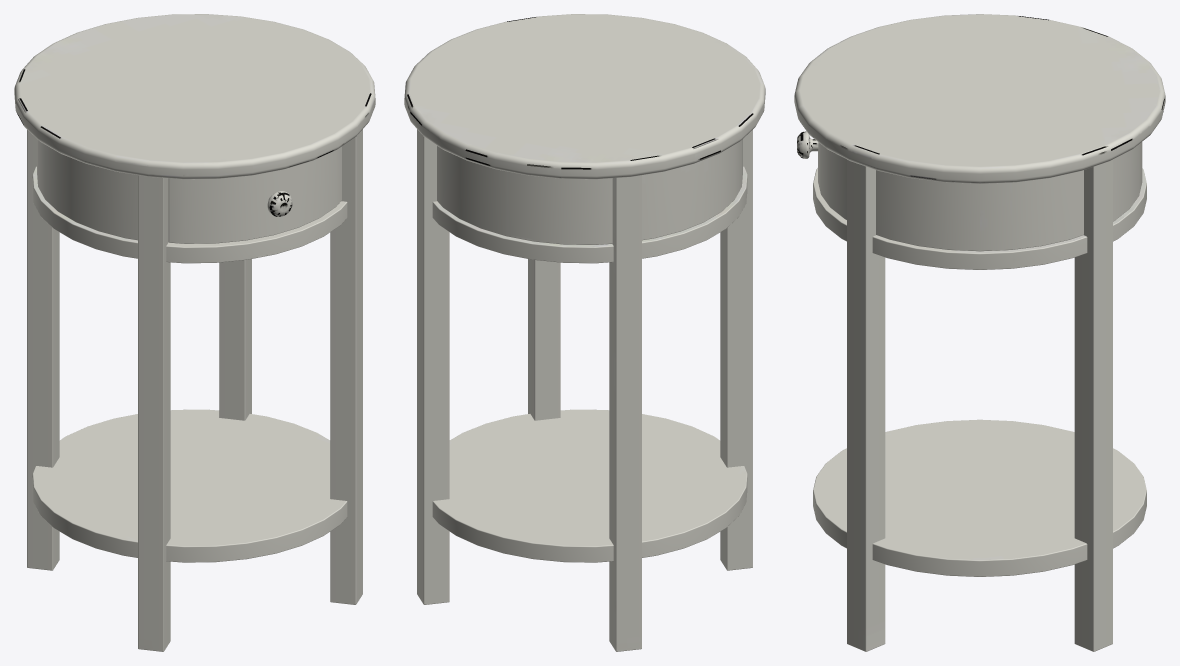
Rendered from nightstandRoundReal.glb.
3 views of the same model, side by side, from view 1: azimuth 30°, elevation 25°; view 2: azimuth 150°, elevation 25°; view 3: azimuth 270°, elevation 25° (orthographic). The views are drawn at different scales.
Parts seen in each view (by area): view 1: Round Nightstand; view 2: Round Nightstand; view 3: Round Nightstand.
Part boxes in pixels (x1=…): Round Nightstand: x1=14, y1=14, x2=375, y2=651; Round Nightstand: x1=404, y1=14, x2=765, y2=651; Round Nightstand: x1=794, y1=14, x2=1165, y2=651.
Size of the model in its own units: 0.4 by 0.6011 by 0.4.
Materials: 1 (1 with a texture image).
